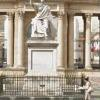Statue: (19, 1, 65, 49)
